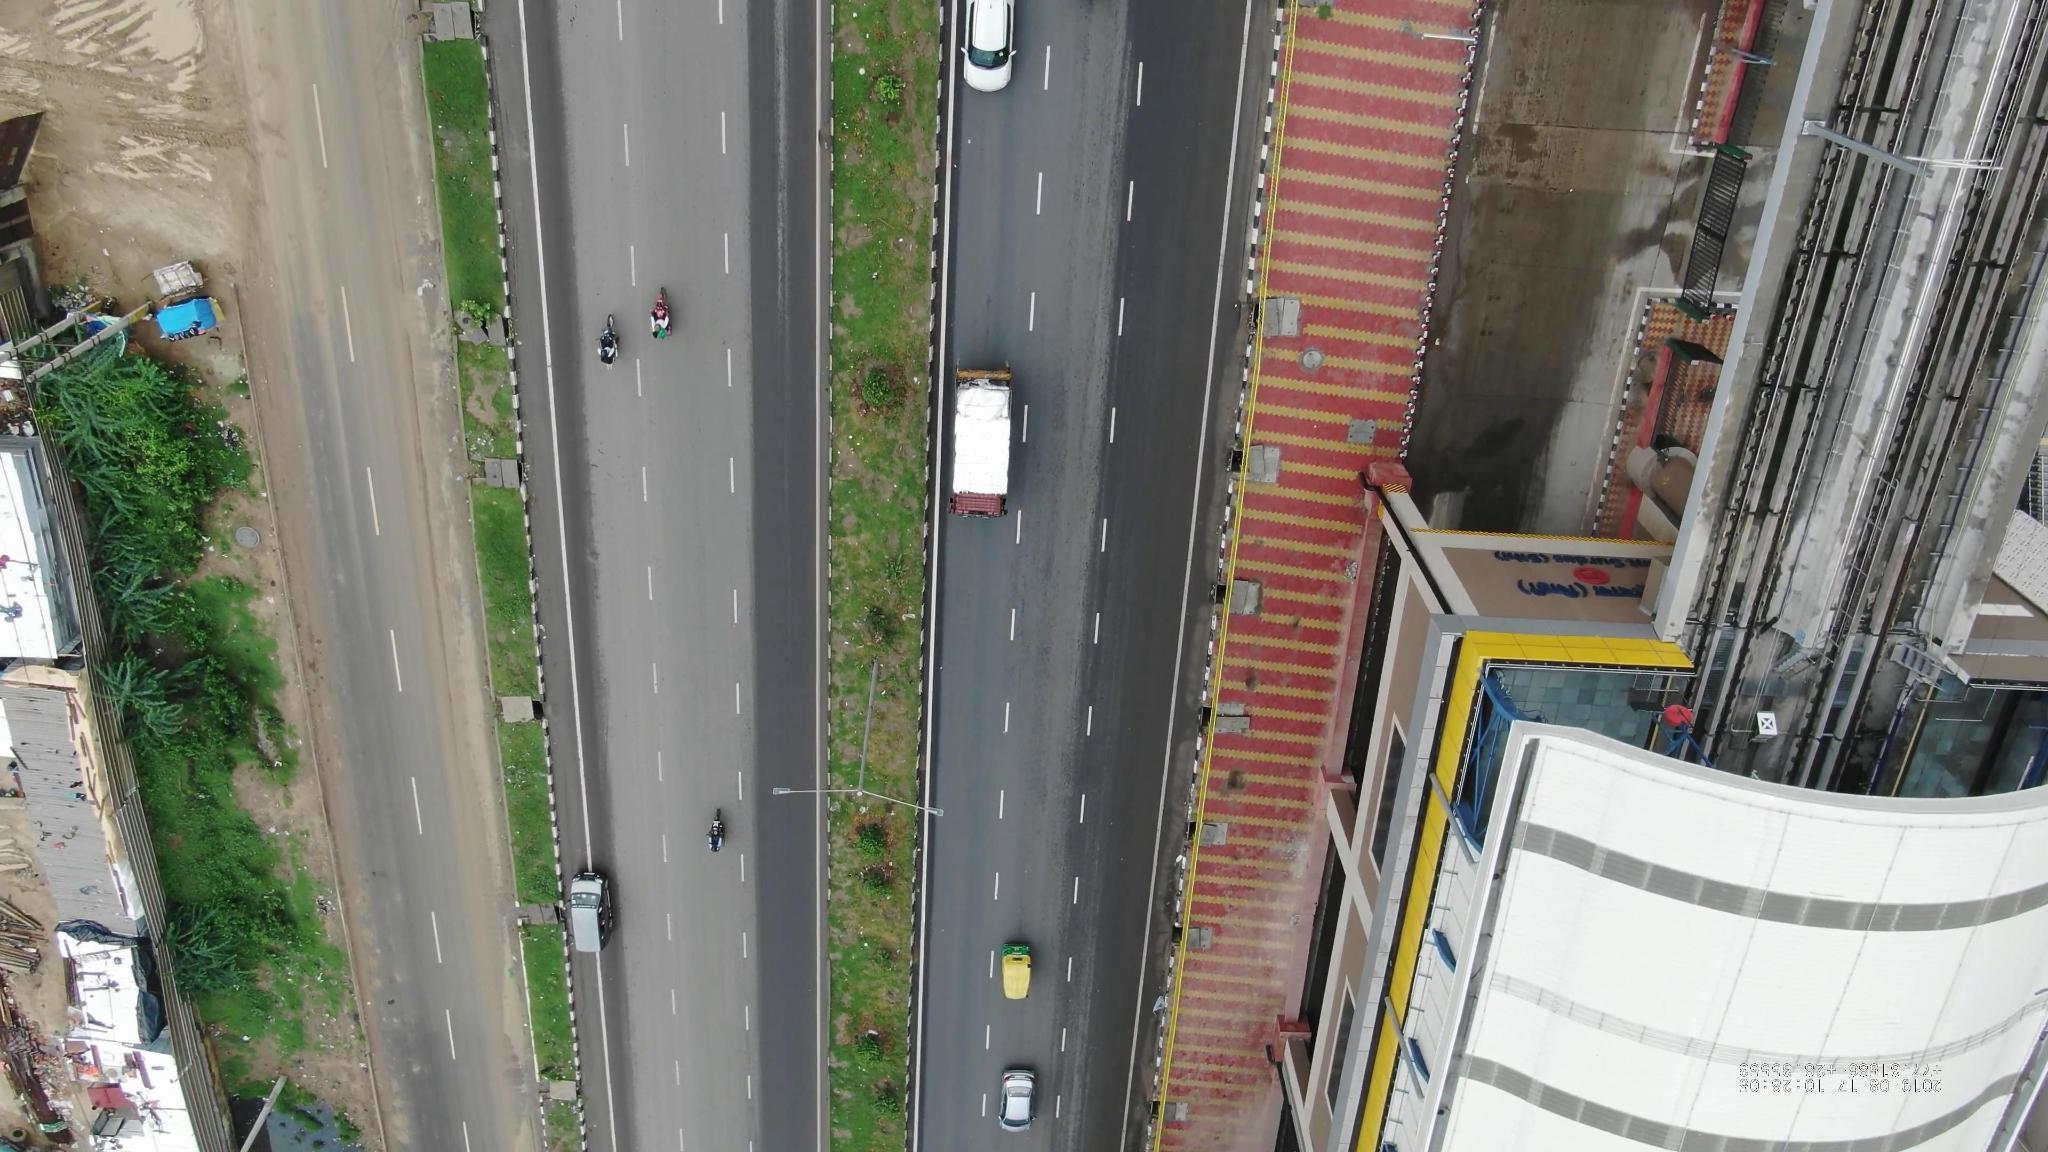Muddy_road: (357, 24, 444, 314), (397, 343, 484, 601), (418, 620, 511, 821)
Potholes: (364, 895, 421, 1139)
Waterlogging: (488, 910, 543, 1092)
